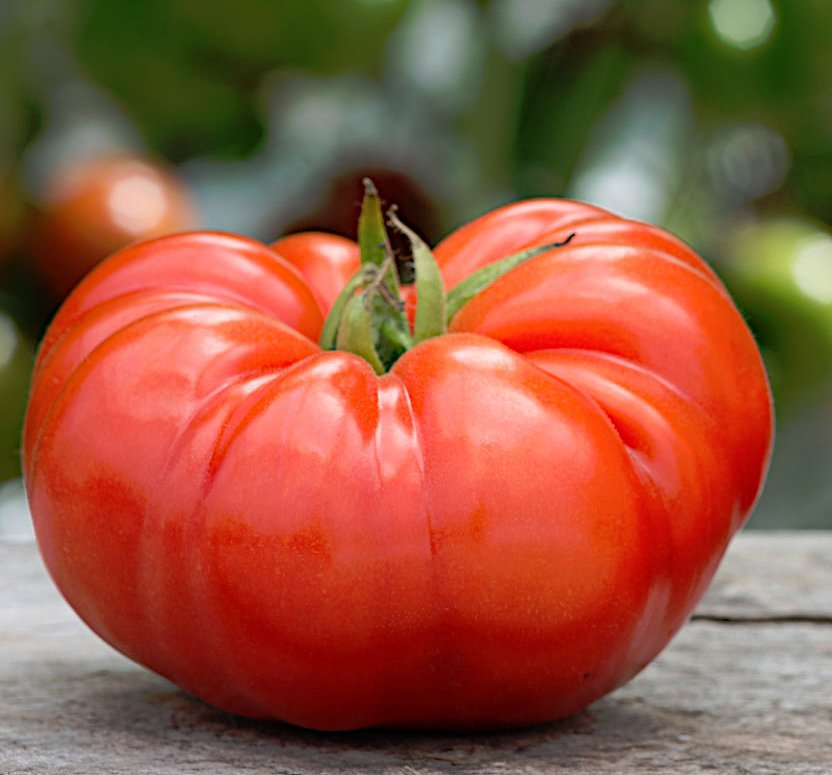Tomato: (10, 160, 782, 770)
